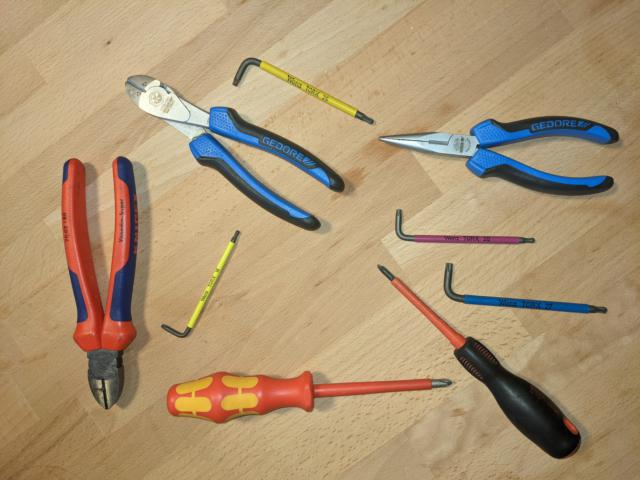Inbusschlüssel: (230, 54, 377, 128), (439, 259, 611, 318), (159, 227, 243, 341), (391, 205, 538, 247)
Schraubendreher: (373, 261, 586, 461), (164, 367, 455, 428)
Seitenschneider: (121, 71, 348, 233), (57, 152, 146, 411)
Zange: (376, 112, 622, 199)
